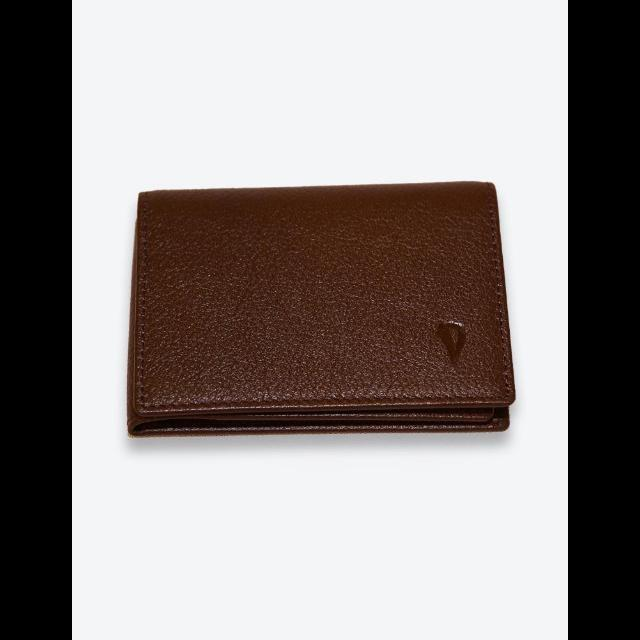Wallet: (128, 182, 514, 436)
